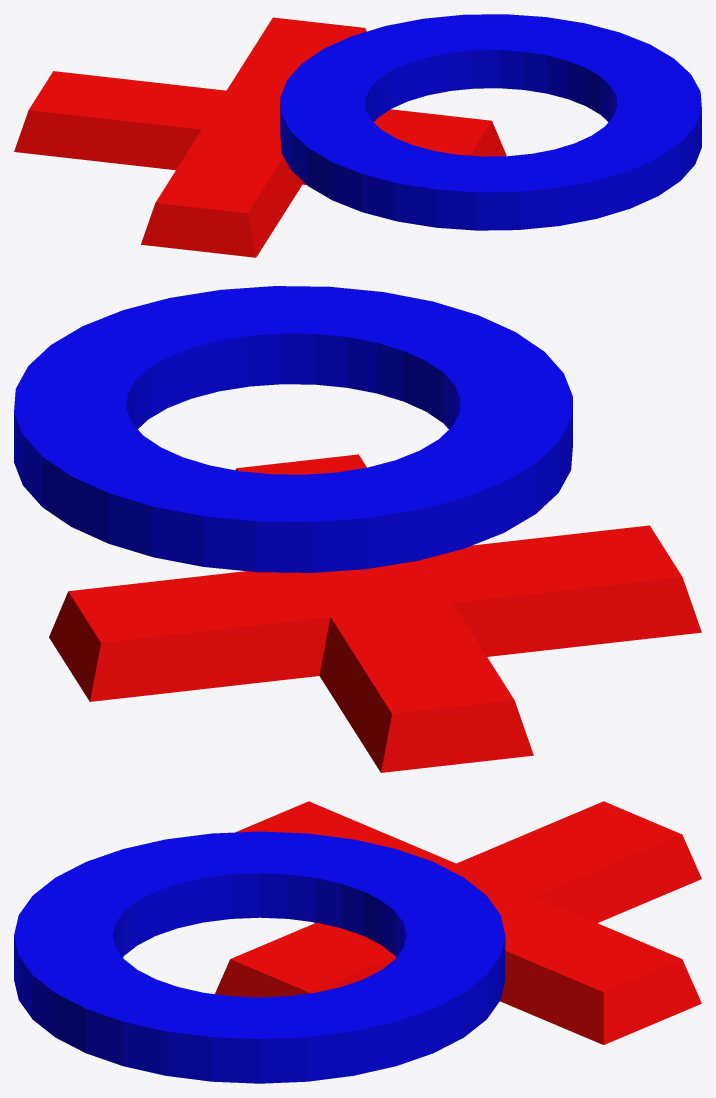
Rendered from icon.glb.
3 renders of one model, top to bottom at view 1: azimuth 30°, elevation 25°; view 2: azimuth 150°, elevation 25°; view 3: azimuth 270°, elevation 25°, orthographic. The views are drawn at different scales.
Parts seen in each view (by area): view 1: Circle, Plane; view 2: Circle, Plane; view 3: Circle, Plane.
Boxes of the visible parts, x1,y1,x2,y2 form: Circle: (280, 14, 701, 230); Plane: (14, 17, 506, 257); Circle: (14, 286, 572, 572); Plane: (49, 454, 701, 772); Circle: (14, 831, 505, 1083); Plane: (215, 801, 701, 1044).
Bounding box in the file's own units: 1.4 × 0.2 × 1.4.
